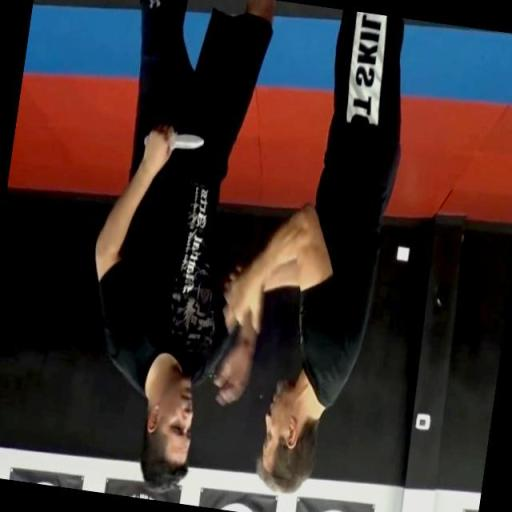knife: (141, 120, 210, 160)
